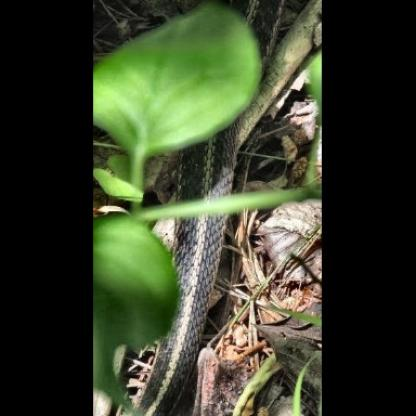Snake: (136, 80, 234, 416)
